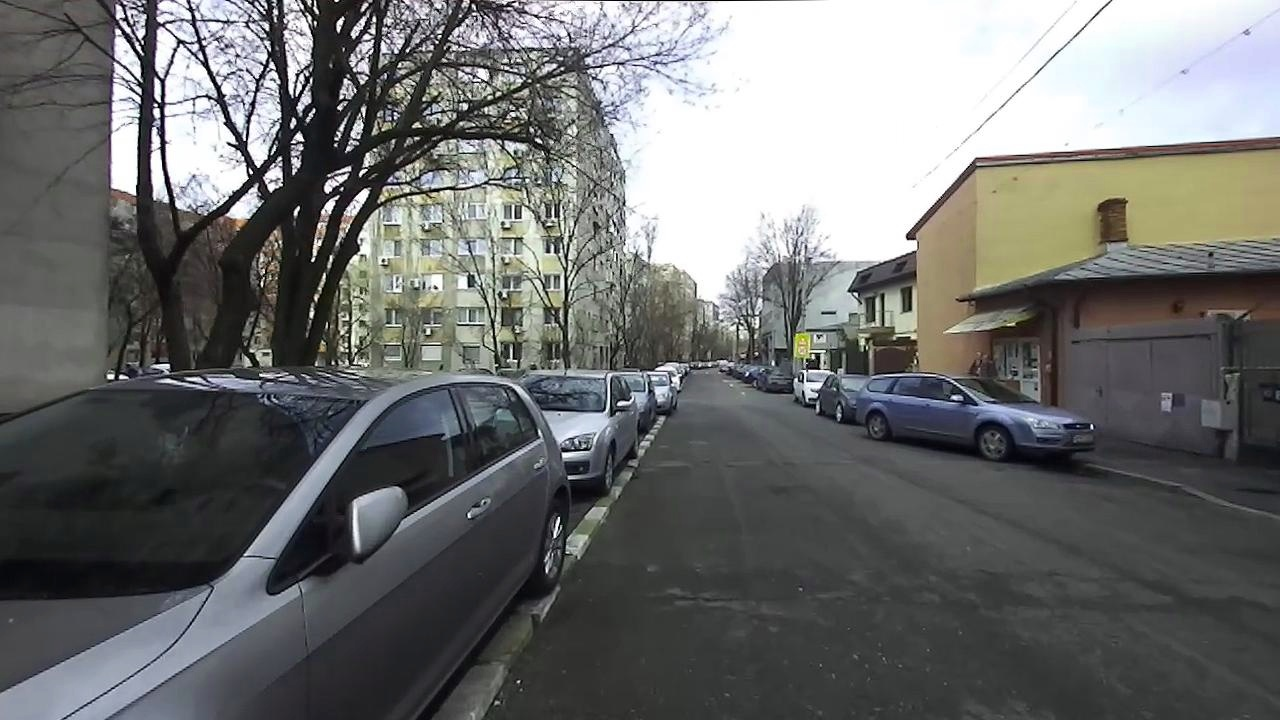pothole: (660, 578, 768, 612)
